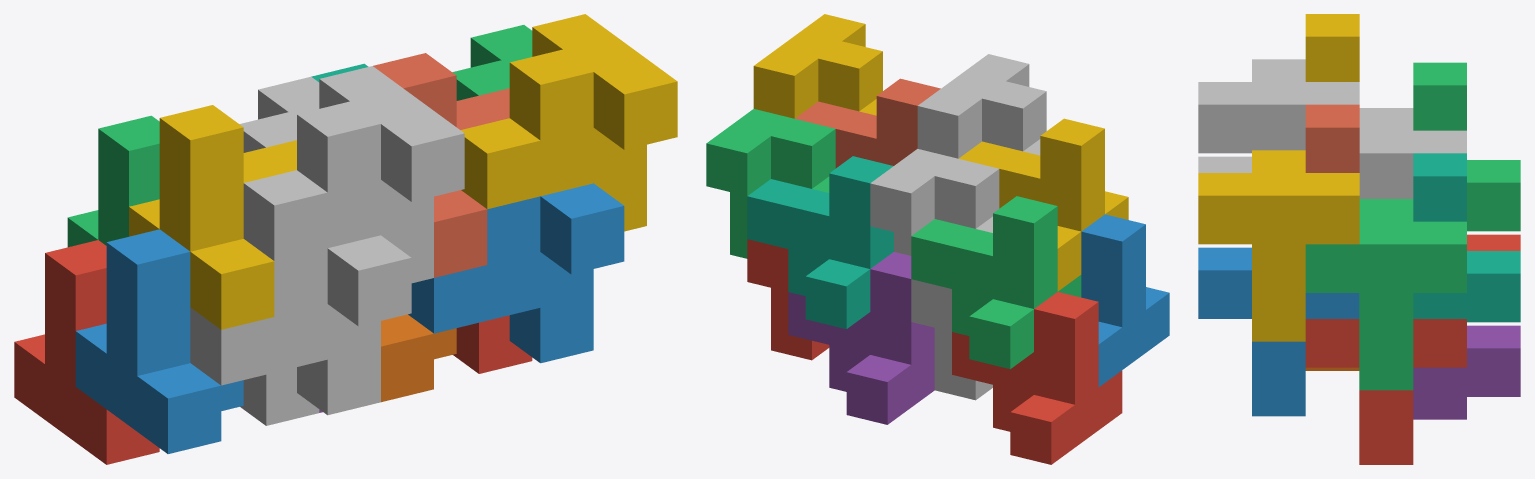
The model's file is tiling.obj.
The picture shows the model from 3 angles, left to right: view 1: azimuth 30°, elevation 25°; view 2: azimuth 150°, elevation 25°; view 3: azimuth 270°, elevation 25°; orthographic projection. The views are drawn at different scales.
Parts seen in each view (by area): view 1: copy_2_domain_4, copy_2_domain_8, copy_2_domain_2, copy_2_domain_6, copy_1_domain_2, copy_1_domain_4, copy_1_domain_1, copy_1_domain_8, copy_1_domain_3, copy_1_domain_6, copy_2_domain_7, copy_2_domain_3 (+2 smaller); view 2: copy_1_domain_3, copy_1_domain_1, copy_1_domain_7, copy_1_domain_5, copy_1_domain_4, copy_1_domain_2, copy_2_domain_4, copy_2_domain_8, copy_2_domain_7, copy_2_domain_3, copy_1_domain_8, copy_2_domain_5 (+1 smaller); view 3: copy_2_domain_8, copy_2_domain_7, copy_2_domain_4, copy_2_domain_5, copy_2_domain_6, copy_1_domain_7, copy_1_domain_3, copy_1_domain_5, copy_2_domain_3, copy_1_domain_8, copy_1_domain_4, copy_1_domain_1 (+1 smaller).
Part boxes in pixels (x1=…): copy_2_domain_4: x1=243, y1=66, x2=464, y2=283; copy_2_domain_8: x1=460, y1=14, x2=677, y2=231; copy_2_domain_2: x1=190, y1=235, x2=411, y2=415; copy_2_domain_6: x1=408, y1=183, x2=624, y2=363; copy_1_domain_2: x1=75, y1=229, x2=243, y2=453; copy_1_domain_4: x1=129, y1=105, x2=296, y2=329; copy_1_domain_1: x1=14, y1=240, x2=159, y2=464; copy_1_domain_8: x1=373, y1=53, x2=509, y2=277; copy_1_domain_3: x1=67, y1=115, x2=159, y2=247; copy_1_domain_6: x1=381, y1=314, x2=456, y2=402; copy_2_domain_7: x1=452, y1=25, x2=532, y2=100; copy_2_domain_3: x1=239, y1=76, x2=319, y2=152; copy_1_domain_3: x1=911, y1=196, x2=1081, y2=369; copy_1_domain_1: x1=952, y1=292, x2=1122, y2=464; copy_1_domain_7: x1=747, y1=156, x2=893, y2=329; copy_1_domain_5: x1=788, y1=252, x2=934, y2=424; copy_1_domain_4: x1=959, y1=118, x2=1128, y2=291; copy_1_domain_2: x1=1081, y1=214, x2=1169, y2=386; copy_2_domain_4: x1=917, y1=54, x2=1046, y2=158; copy_2_domain_8: x1=753, y1=14, x2=882, y2=118; copy_2_domain_7: x1=706, y1=109, x2=835, y2=258; copy_2_domain_3: x1=870, y1=149, x2=999, y2=255; copy_1_domain_8: x1=795, y1=78, x2=940, y2=168; copy_2_domain_5: x1=747, y1=239, x2=829, y2=360; copy_2_domain_8: x1=1198, y1=150, x2=1359, y2=341; copy_2_domain_7: x1=1305, y1=199, x2=1466, y2=390; copy_2_domain_4: x1=1198, y1=59, x2=1359, y2=153; copy_2_domain_5: x1=1305, y1=319, x2=1466, y2=464; copy_2_domain_6: x1=1198, y1=247, x2=1359, y2=416; copy_1_domain_7: x1=1413, y1=153, x2=1520, y2=322; copy_1_domain_3: x1=1413, y1=62, x2=1520, y2=231; copy_1_domain_5: x1=1413, y1=325, x2=1520, y2=419; copy_2_domain_3: x1=1359, y1=108, x2=1466, y2=198; copy_1_domain_8: x1=1305, y1=104, x2=1359, y2=172; copy_1_domain_4: x1=1305, y1=14, x2=1359, y2=81; copy_1_domain_1: x1=1467, y1=234, x2=1520, y2=250.
Size of the model in its own units: 9 by 6 by 6.
